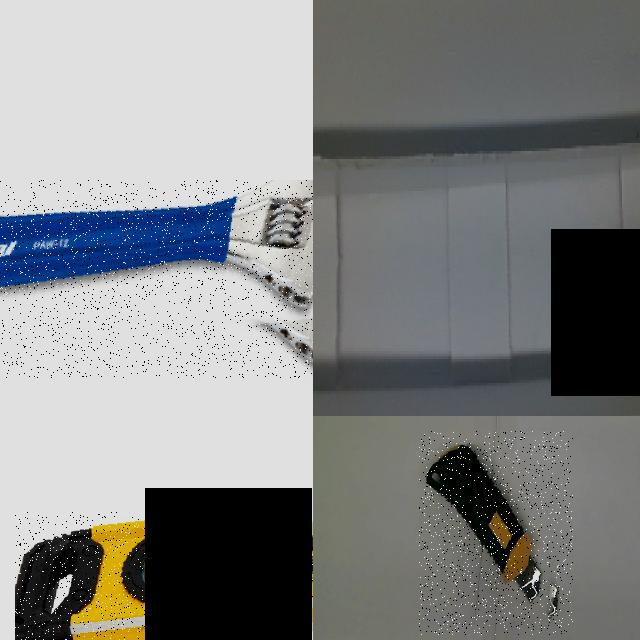estilete: (426, 445, 540, 599)
